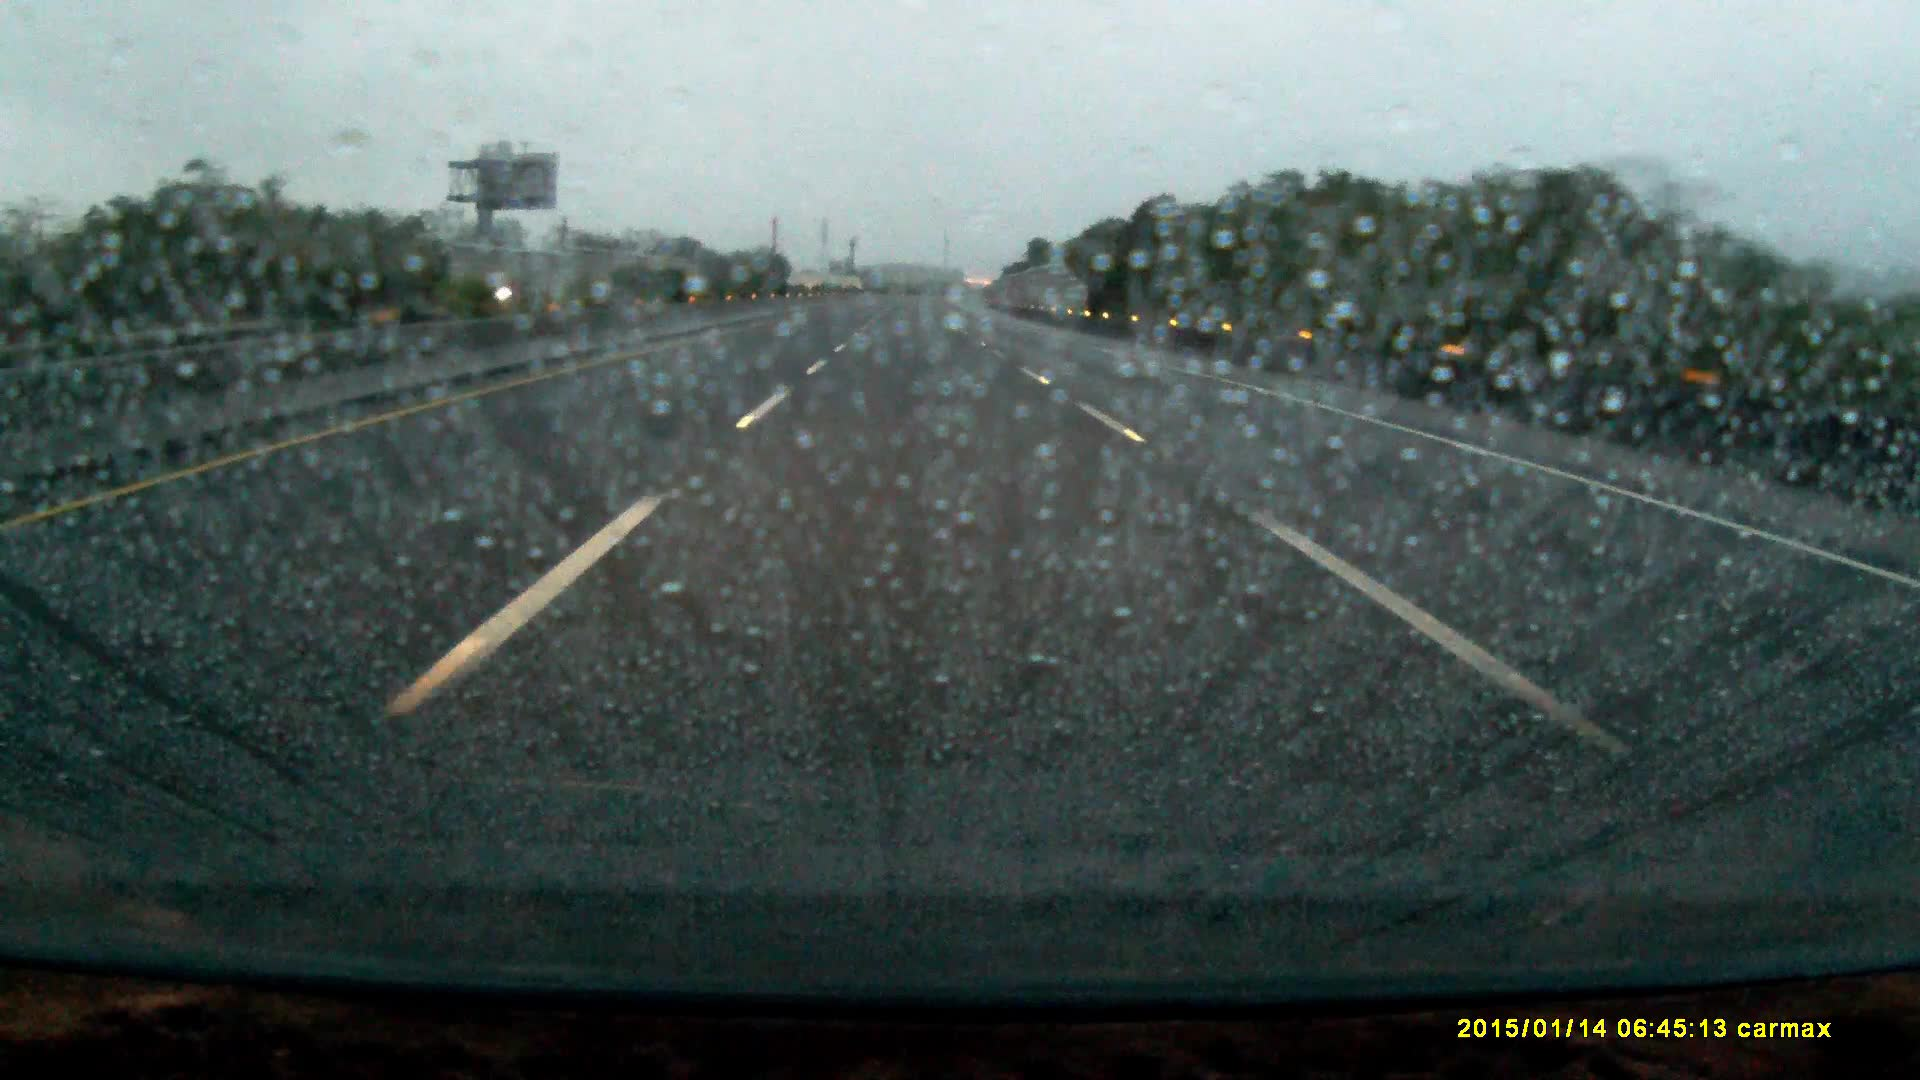vehicle: (508, 268, 593, 309)
